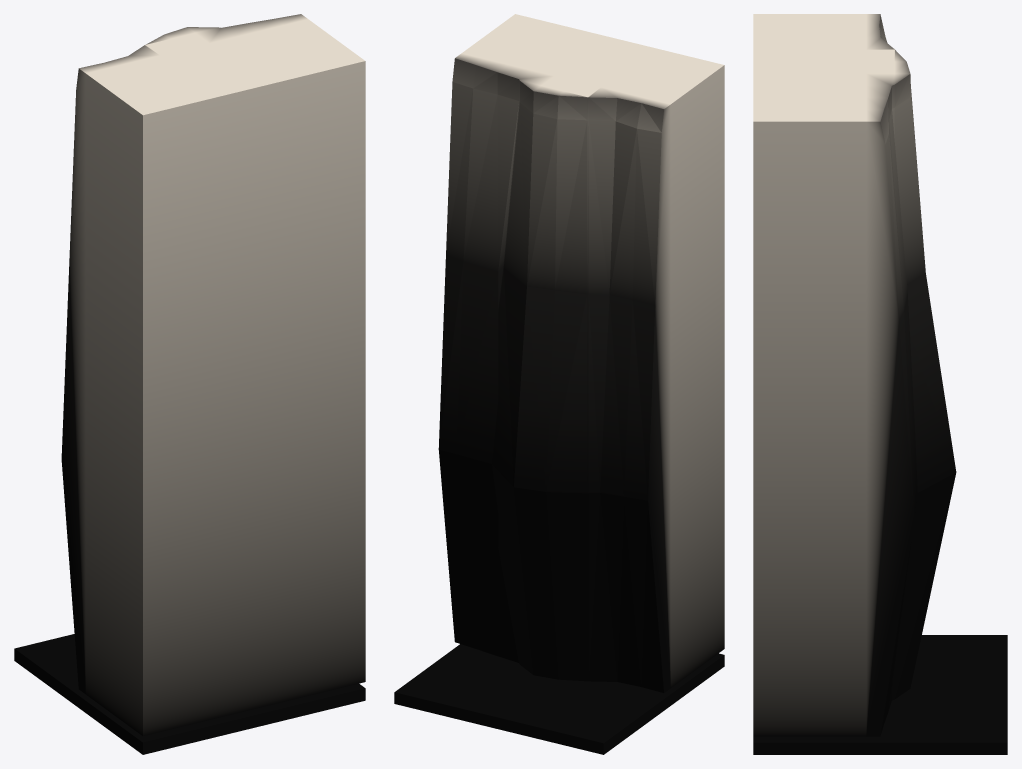
Rendered from SM_VKI_Ground_Cave_OOXX_Q00.fbx.
The picture shows the model from 3 angles, left to right: view 1: azimuth 30°, elevation 25°; view 2: azimuth 150°, elevation 25°; view 3: azimuth 270°, elevation 25°; orthographic projection. The views are drawn at different scales.
Parts seen in each view (by area): view 1: SM_VKI_Ground_Cave_OOXX_Q00.001; view 2: SM_VKI_Ground_Cave_OOXX_Q00.001; view 3: SM_VKI_Ground_Cave_OOXX_Q00.001.
Part boxes in pixels (bbox=[...]): SM_VKI_Ground_Cave_OOXX_Q00.001: bbox=[14, 14, 365, 754]; SM_VKI_Ground_Cave_OOXX_Q00.001: bbox=[394, 14, 724, 754]; SM_VKI_Ground_Cave_OOXX_Q00.001: bbox=[753, 14, 1007, 754].
Bounding box in the file's own units: 1.5 × 4.12 × 1.5.
